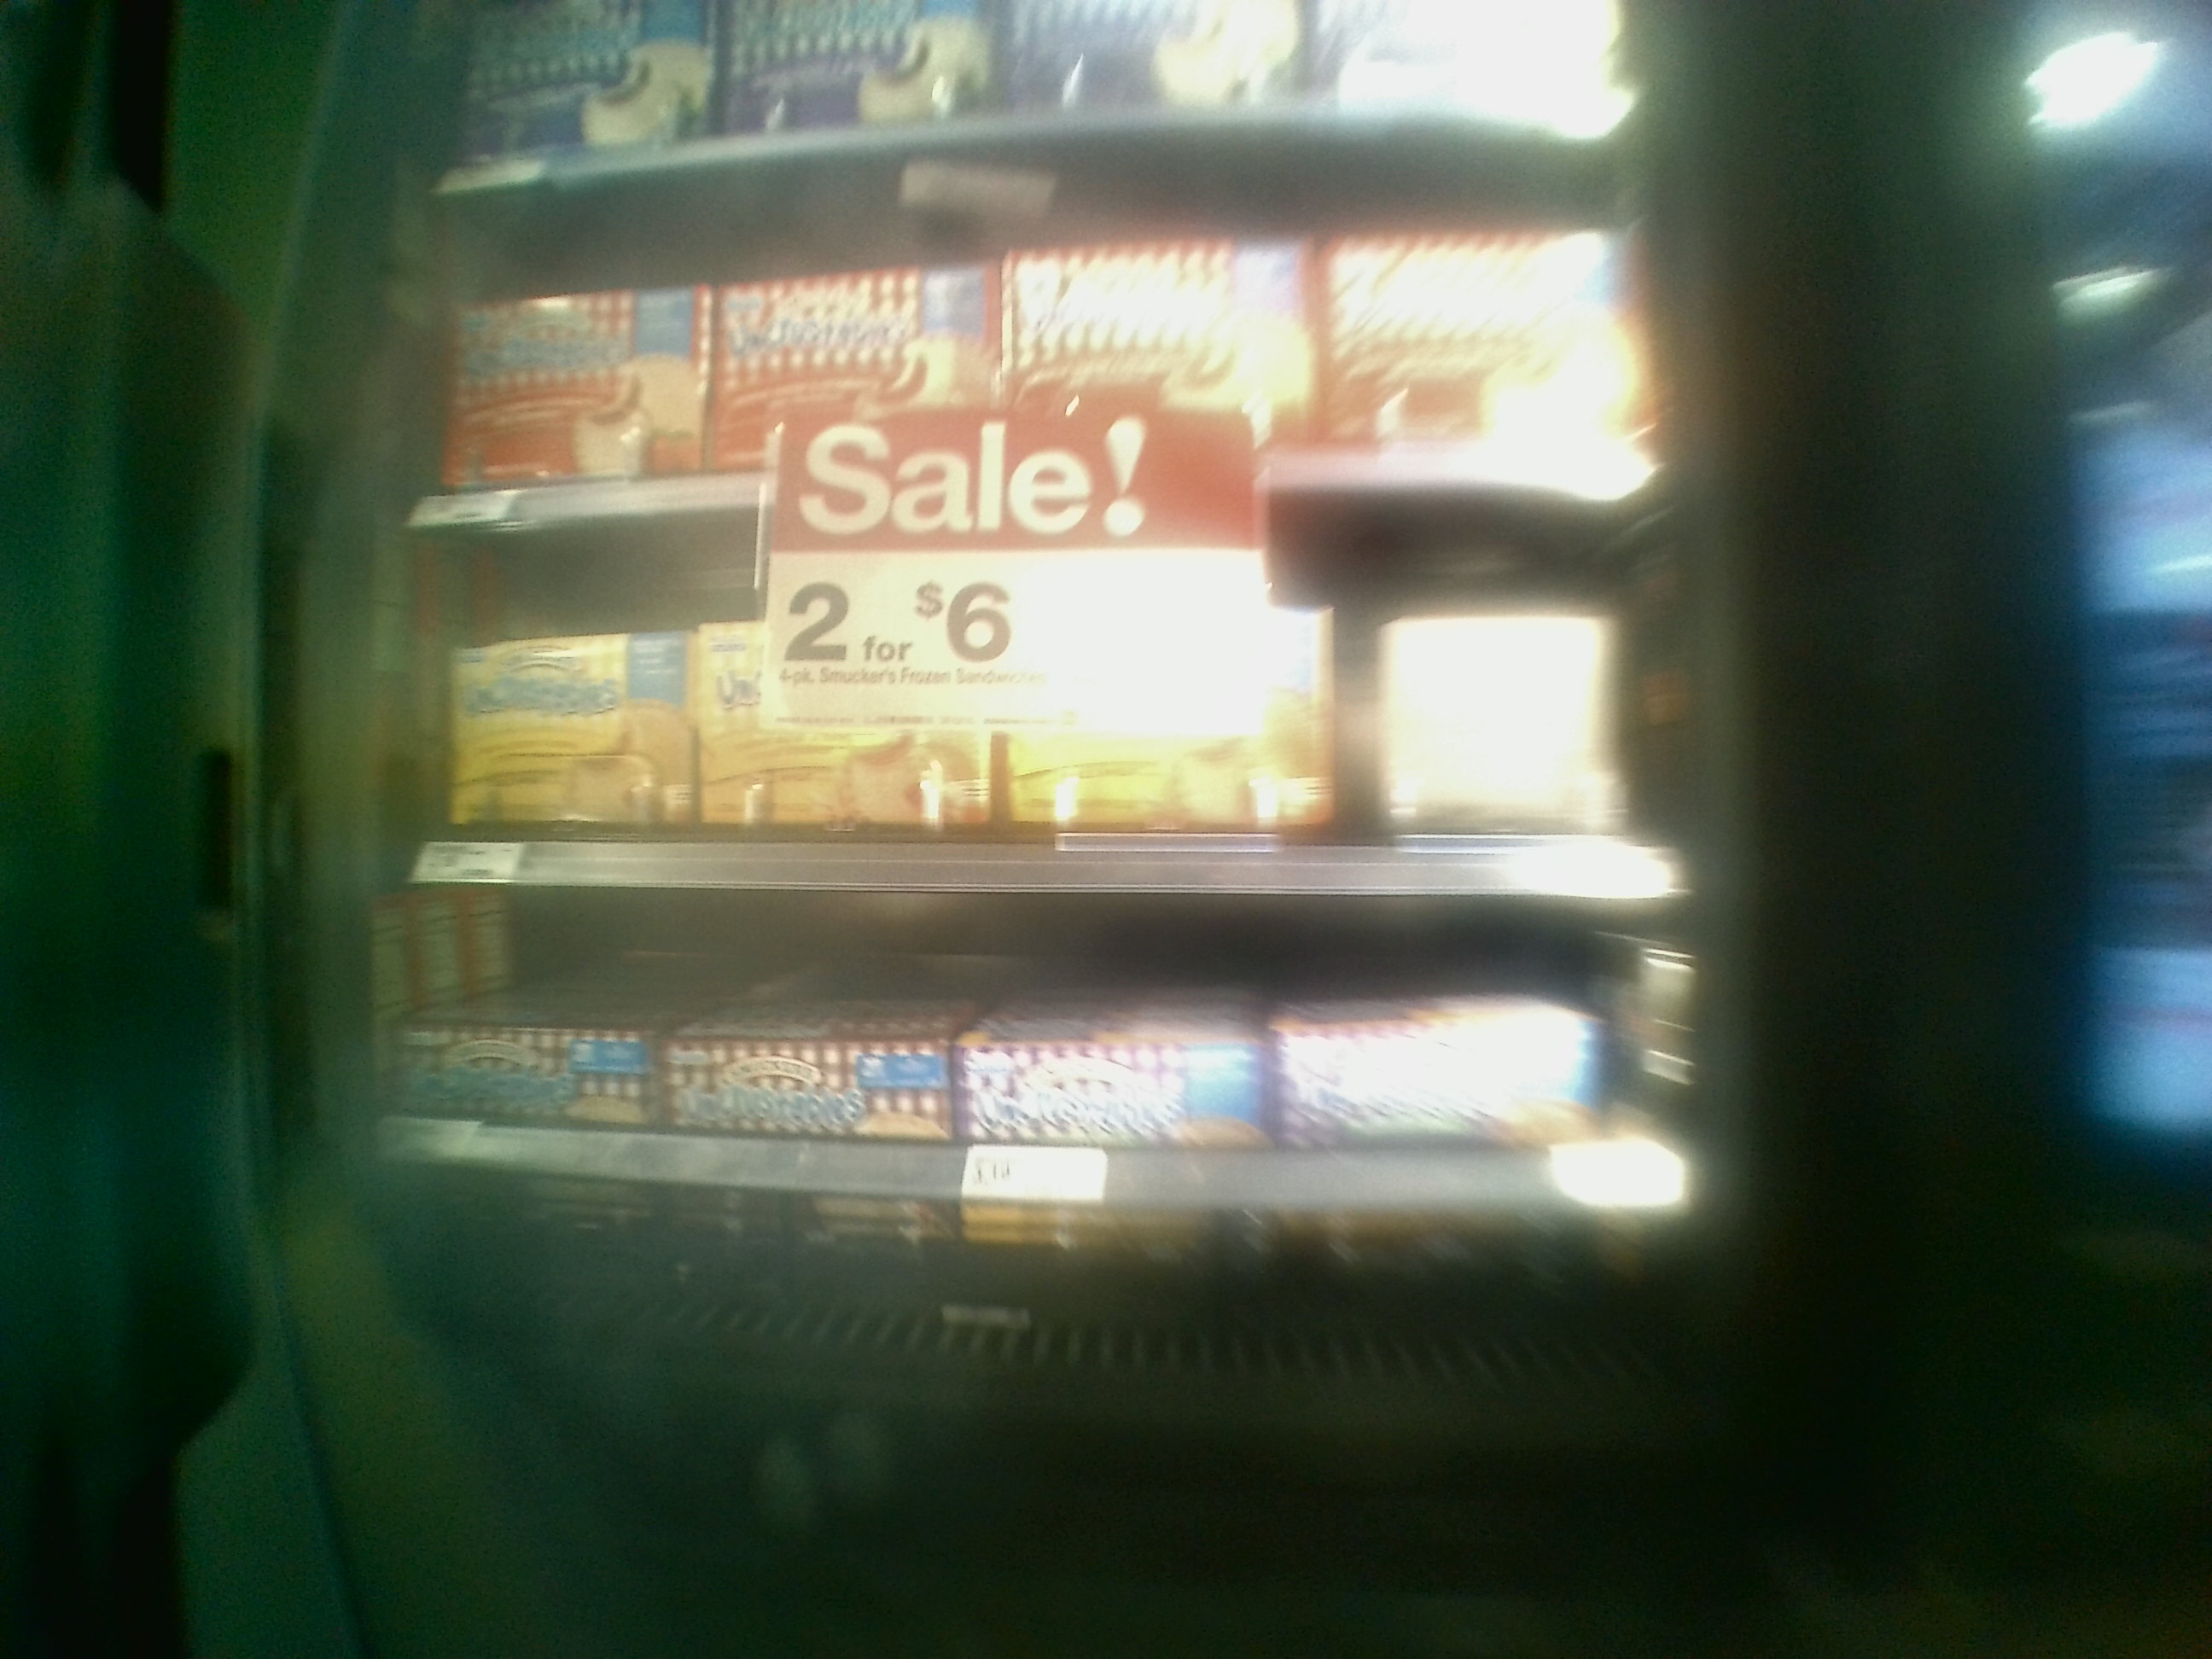shelf: (380, 882, 1705, 1368), (394, 525, 1669, 911), (394, 183, 1655, 530)
